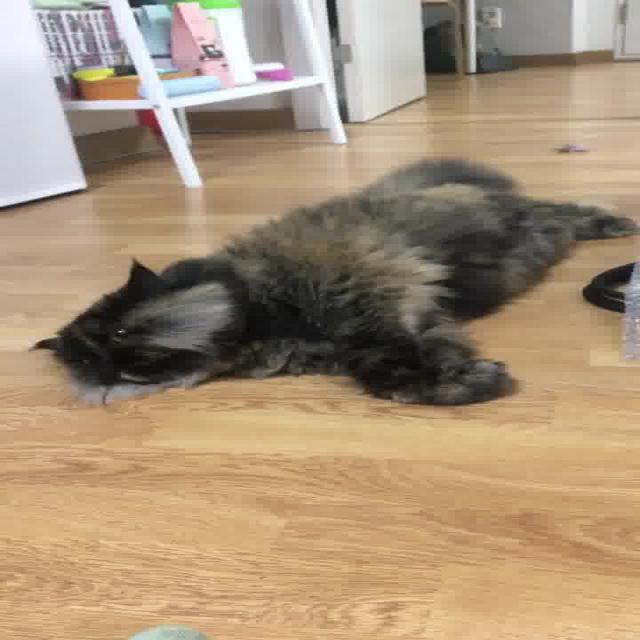cat: (13, 125, 640, 415)
